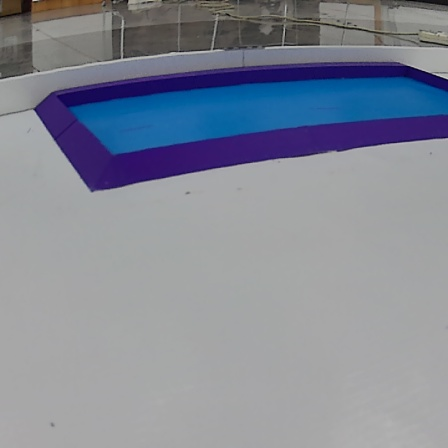blue_aim: (30, 61, 448, 193)
